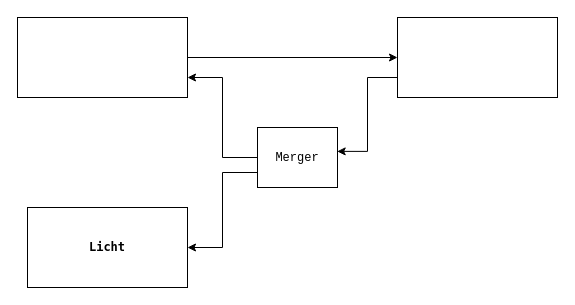
This 575x305 diagram has some shape labels left out. Here are the shapes that lost their labels. From the top down, the centre of each, then its label:
pixel 102 57: Sound
pixel 477 57: Video mit Midi Thru an
